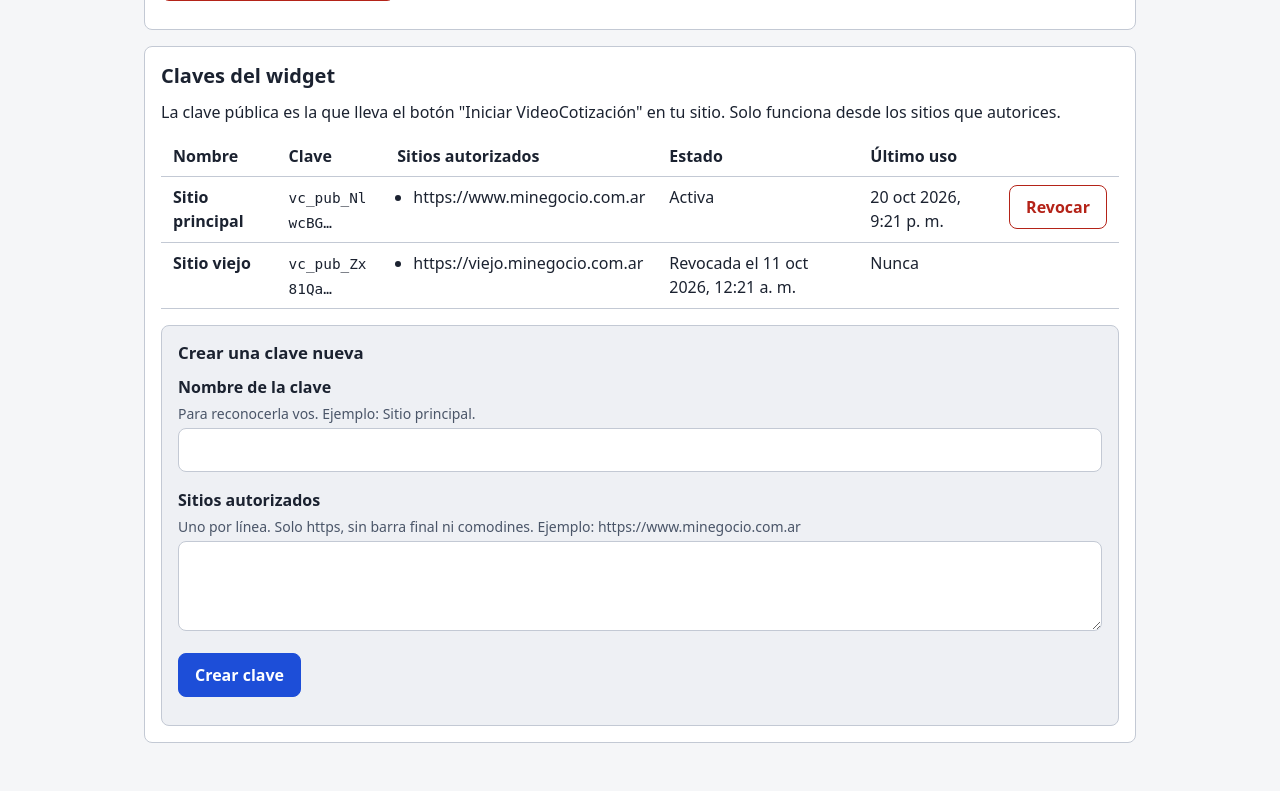
it: Claves del widget › valida el nombre y los sitios (https, sin barra final, sin comodines, sin repetidos) antes de pedir nada
The image size is (1280, 791).
Later steps or results of the test are not shown.
(page scrolled)
Expected: the table named "Claves del widget" is shown, [161,136,1119,309]
What coordinates should you click on to do the following:
click the button "Crear clave"
I would click on:
 (240, 675)
Its box is [178,653,301,697].
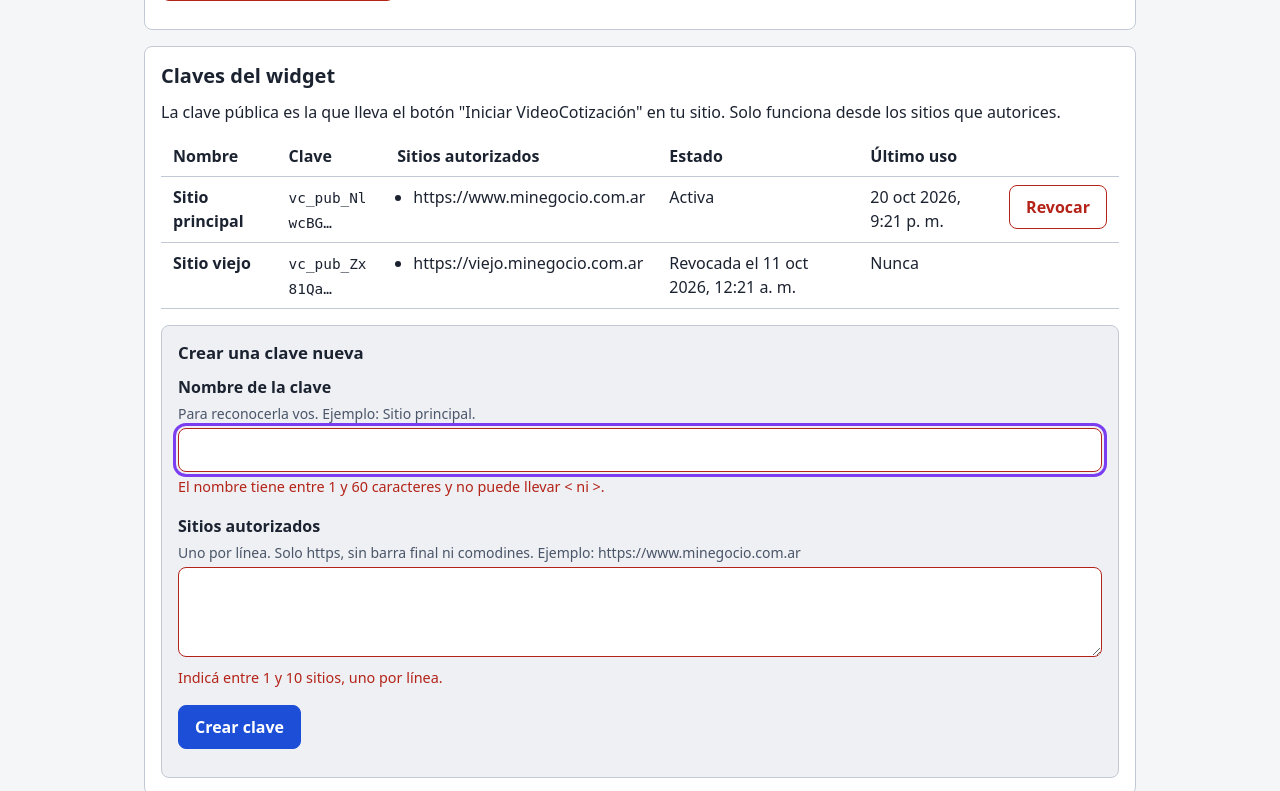
Result: the text "El nombre tiene entre 1 y 60 caracteres y no puede llevar < ni >." is shown at [178,477,605,496]
Result: the text "Indicá entre 1 y 10 sitios, uno por línea." is shown at [178,668,443,687]
